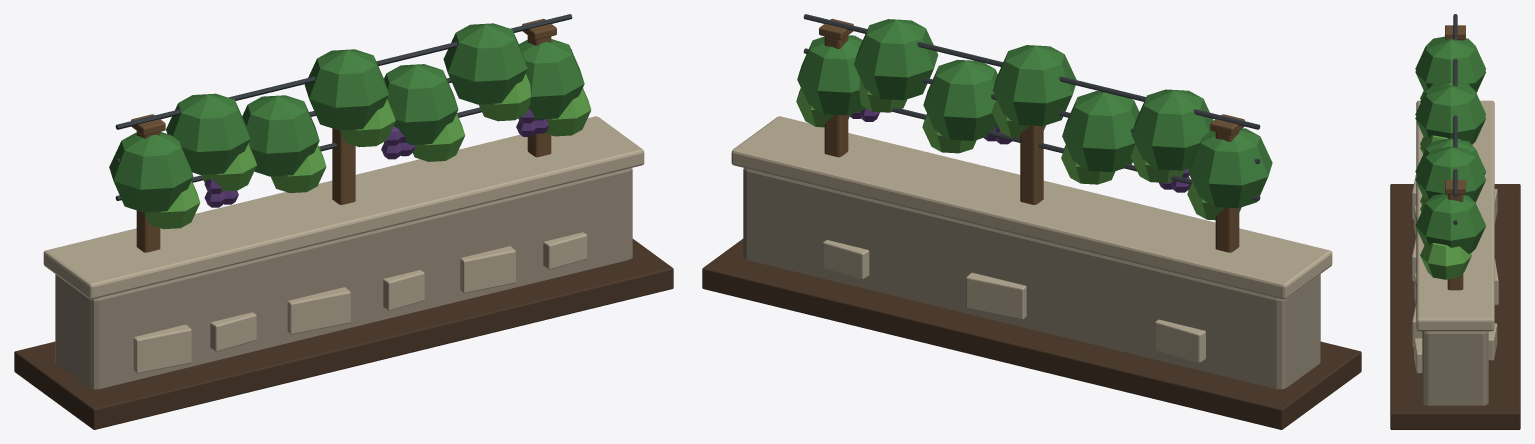
Rendered from SM_WeinbergMauer.glb.
3 views of the same model, side by side, from view 1: azimuth 30°, elevation 25°; view 2: azimuth 150°, elevation 25°; view 3: azimuth 270°, elevation 25° (orthographic). The views are drawn at different scales.
Visible parts, largest first — view 1: SM_WeinbergMauer; view 2: SM_WeinbergMauer; view 3: SM_WeinbergMauer.
Part boxes in pixels (x1,y1,x2,y2): SM_WeinbergMauer: (14,14,673,429); SM_WeinbergMauer: (702,14,1361,429); SM_WeinbergMauer: (1390,14,1520,429).
Size of what is drawn, in the model's own units: 4.6 by 2.14 by 1.1.
